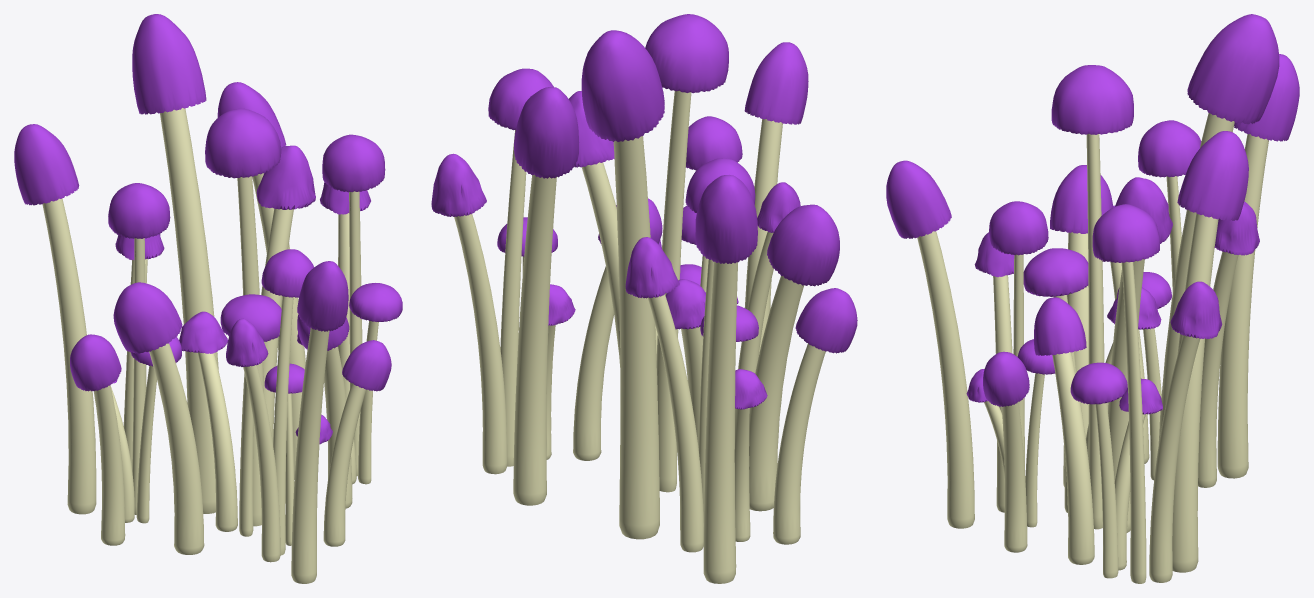
The model's file is Mushrooms_and_Flowers 1.fbx.
3 renders of one model, left to right at view 1: azimuth 30°, elevation 25°; view 2: azimuth 150°, elevation 25°; view 3: azimuth 270°, elevation 25°, orthographic. The views are drawn at different scales.
Parts seen in each view (by area): view 1: mushOne; view 2: mushOne; view 3: mushOne.
Boxes of the visible parts, x1,y1,x2,y2 form: mushOne: [14, 14, 402, 583]; mushOne: [431, 14, 857, 583]; mushOne: [886, 14, 1299, 583].
Bounding box in the file's own units: 2131 × 2872 × 2138.
